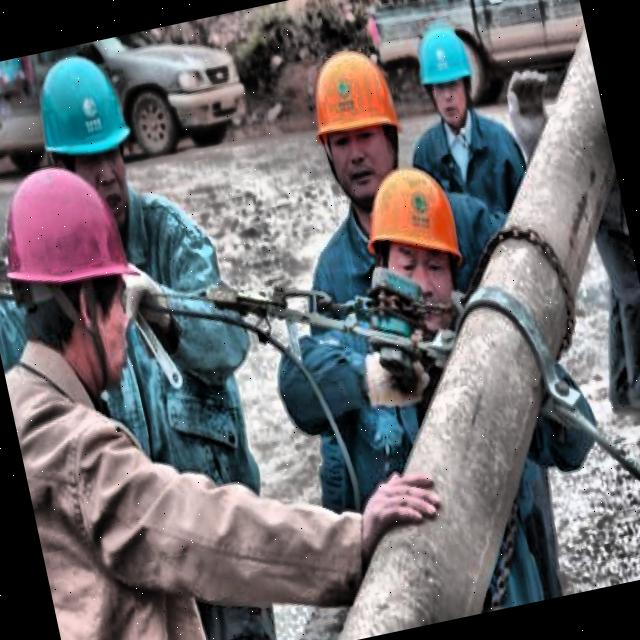helmet: (0, 127, 161, 400), (348, 138, 490, 326), (284, 38, 414, 220), (18, 39, 146, 220), (407, 12, 485, 136)
